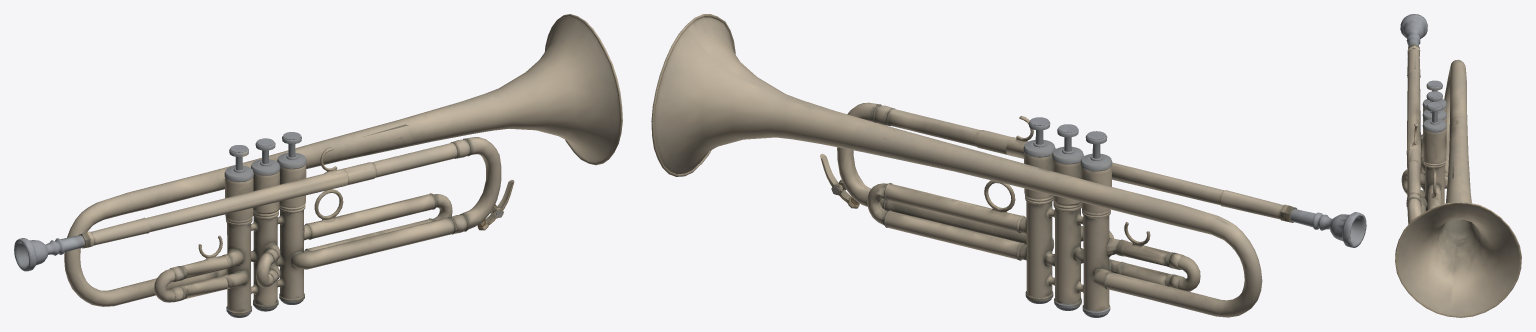
Rendered from worn-trumpet-dca806.glb.
3 views of the same model, side by side, from view 1: azimuth 30°, elevation 25°; view 2: azimuth 150°, elevation 25°; view 3: azimuth 270°, elevation 25° (orthographic). The views are drawn at different scales.
Visible parts, largest first — view 1: PropMesh; view 2: PropMesh; view 3: PropMesh.
Boxes of the visible parts, x1,y1,x2,y2 form: PropMesh: [14, 14, 622, 317]; PropMesh: [651, 14, 1366, 317]; PropMesh: [1395, 14, 1521, 317].
Size of the model in its own units: 0.5415 by 0.173 by 0.1231.
1 material, 1 textured.
